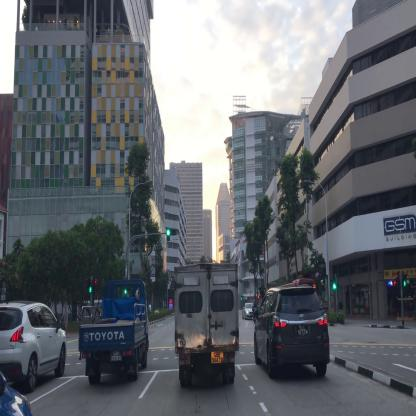green_traffic_light: (166, 229, 176, 235)
